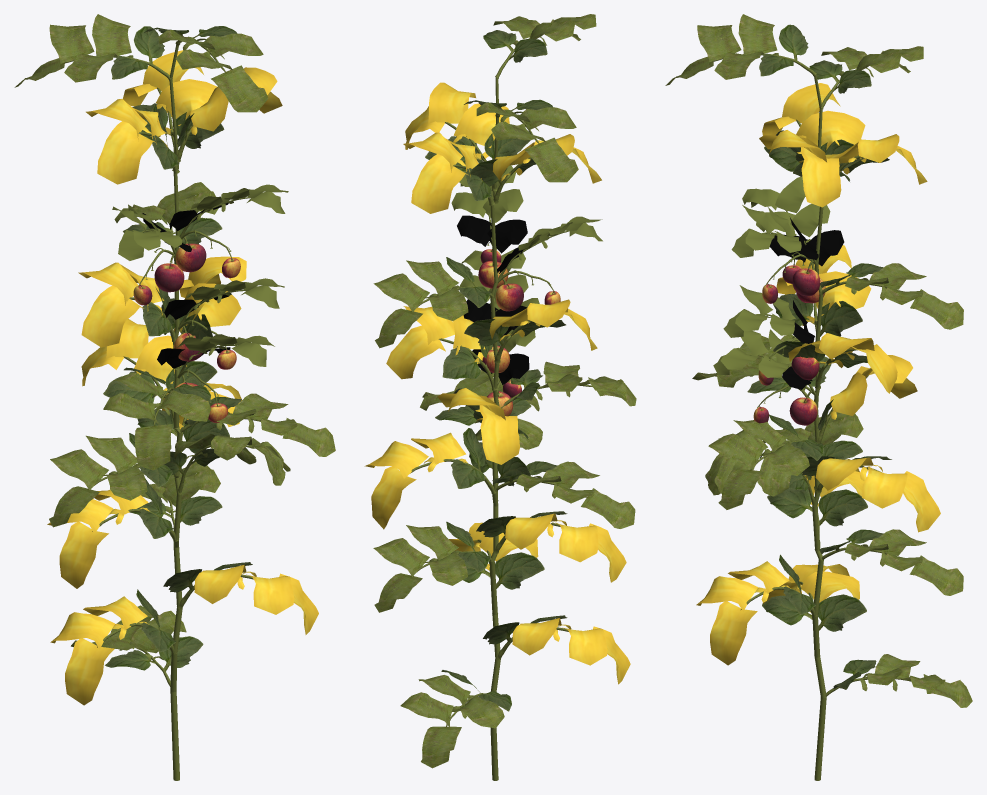
Rendered from apple_tree.dae.
The picture shows the model from 3 angles, left to right: view 1: azimuth 30°, elevation 25°; view 2: azimuth 150°, elevation 25°; view 3: azimuth 270°, elevation 25°; orthographic projection. The views are drawn at different scales.
Parts seen in each view (by area): view 1: Branch2, Blossom1, Leaf1, Blossom3, Branch4, Branch1, Leaf2, Blossom2, Leaf3, Apple11, Apple12; view 2: Branch2, Blossom1, Leaf1, Blossom3, Branch4, Leaf3, Branch1, Leaf2, Blossom2, Apple11, Apple12; view 3: Branch2, Blossom1, Leaf1, Branch4, Blossom3, Branch1, Leaf3, Leaf2, Blossom2, Apple2, Apple12.
Part boxes in pixels (left/top/right/bottom): Branch2: left=14, top=14, right=335, bottom=687; Blossom1: left=47, top=50, right=318, bottom=705; Leaf1: left=105, top=26, right=252, bottom=671; Blossom3: left=81, top=98, right=246, bottom=394; Branch4: left=112, top=184, right=288, bottom=406; Branch1: left=169, top=45, right=182, bottom=780; Leaf2: left=103, top=103, right=217, bottom=403; Blossom2: left=174, top=433, right=290, bottom=485; Leaf3: left=142, top=203, right=230, bottom=368; Apple11: left=154, top=262, right=184, bottom=292; Apple12: left=175, top=243, right=206, bottom=272; Branch2: left=373, top=14, right=636, bottom=768; Blossom1: left=364, top=82, right=630, bottom=684; Leaf1: left=425, top=30, right=567, bottom=711; Blossom3: left=386, top=134, right=601, bottom=464; Branch4: left=451, top=165, right=602, bottom=394; Leaf3: left=457, top=215, right=529, bottom=384; Branch1: left=489, top=75, right=500, bottom=780; Leaf2: left=442, top=159, right=536, bottom=439; Blossom2: left=474, top=396, right=542, bottom=449; Apple11: left=495, top=283, right=523, bottom=311; Apple12: left=478, top=261, right=508, bottom=288; Branch2: left=665, top=14, right=972, bottom=707; Blossom1: left=696, top=130, right=940, bottom=665; Leaf1: left=747, top=24, right=891, bottom=689; Branch4: left=713, top=176, right=830, bottom=408; Blossom3: left=762, top=83, right=917, bottom=419; Branch1: left=812, top=72, right=826, bottom=780; Leaf3: left=769, top=217, right=844, bottom=389; Leaf2: left=764, top=139, right=867, bottom=430; Blossom2: left=705, top=430, right=793, bottom=496; Apple2: left=789, top=397, right=817, bottom=425; Apple12: left=792, top=268, right=820, bottom=295.
Bounding box in the file's own units: 0.8041 × 0.8922 × 2.38.
Materials: 12 (12 with a texture image).
